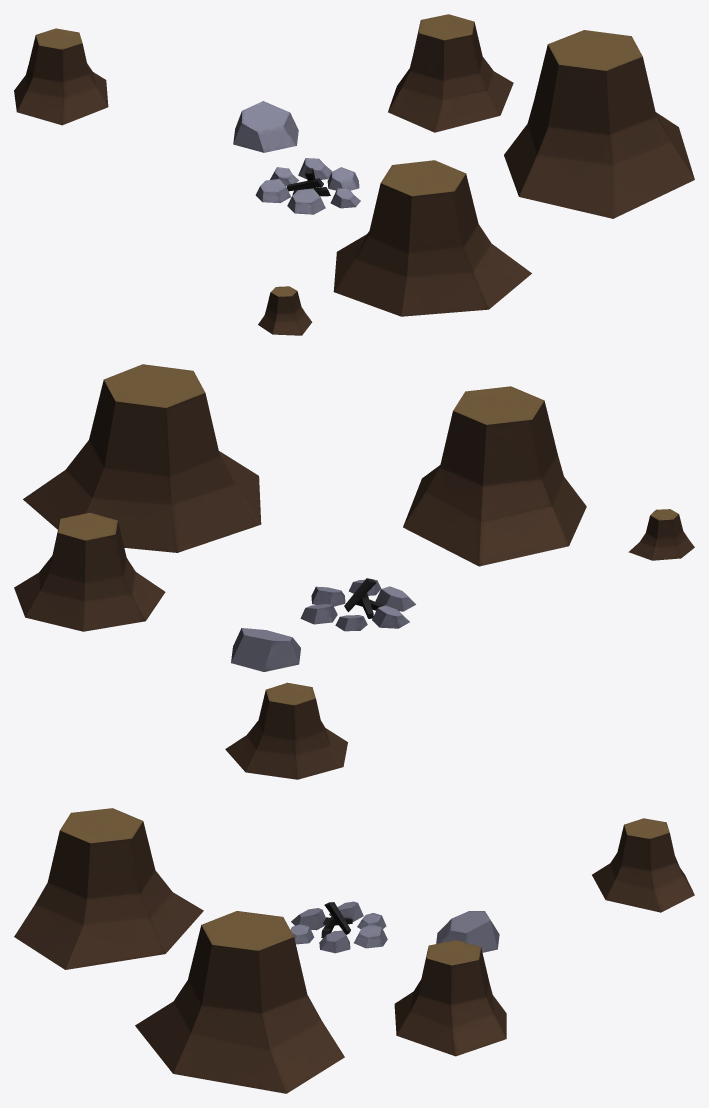
File: tile_wood_2_ruin.fbx
3 views of the same model, one above another, from view 1: azimuth 30°, elevation 25°; view 2: azimuth 150°, elevation 25°; view 3: azimuth 270°, elevation 25° (orthographic). The views are drawn at different scales.
Visible parts, largest first — view 1: wood_2_ruin; view 2: wood_2_ruin; view 3: wood_2_ruin.
Part boxes in pixels (x1=…): wood_2_ruin: x1=14, y1=14, x2=694, y2=335; wood_2_ruin: x1=14, y1=364, x2=694, y2=779; wood_2_ruin: x1=14, y1=808, x2=694, y2=1093.
Bounding box in the file's own units: 0.0262 × 0.00571 × 0.0306.
